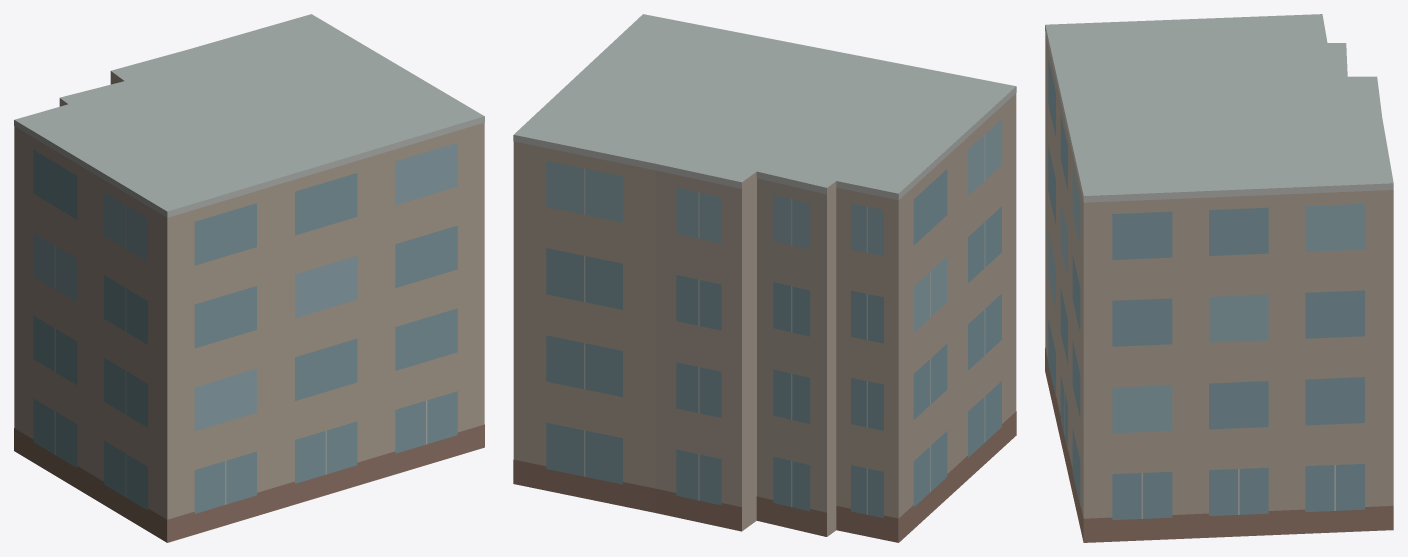
The model's file is survey-upis-32636062.glb.
3 renders of one model, left to right at view 1: azimuth 30°, elevation 25°; view 2: azimuth 150°, elevation 25°; view 3: azimuth 270°, elevation 25°, orthographic. The views are drawn at different scales.
Visible parts, largest first — view 1: survey-upis-32636062.tmp; view 2: survey-upis-32636062.tmp; view 3: survey-upis-32636062.tmp.
Part boxes in pixels (x1,y1,x2,y2): survey-upis-32636062.tmp: (14,14,484,542); survey-upis-32636062.tmp: (513,14,1016,542); survey-upis-32636062.tmp: (1045,14,1393,542).
Bounding box in the file's own units: 14.54 × 12.9 × 11.76.
